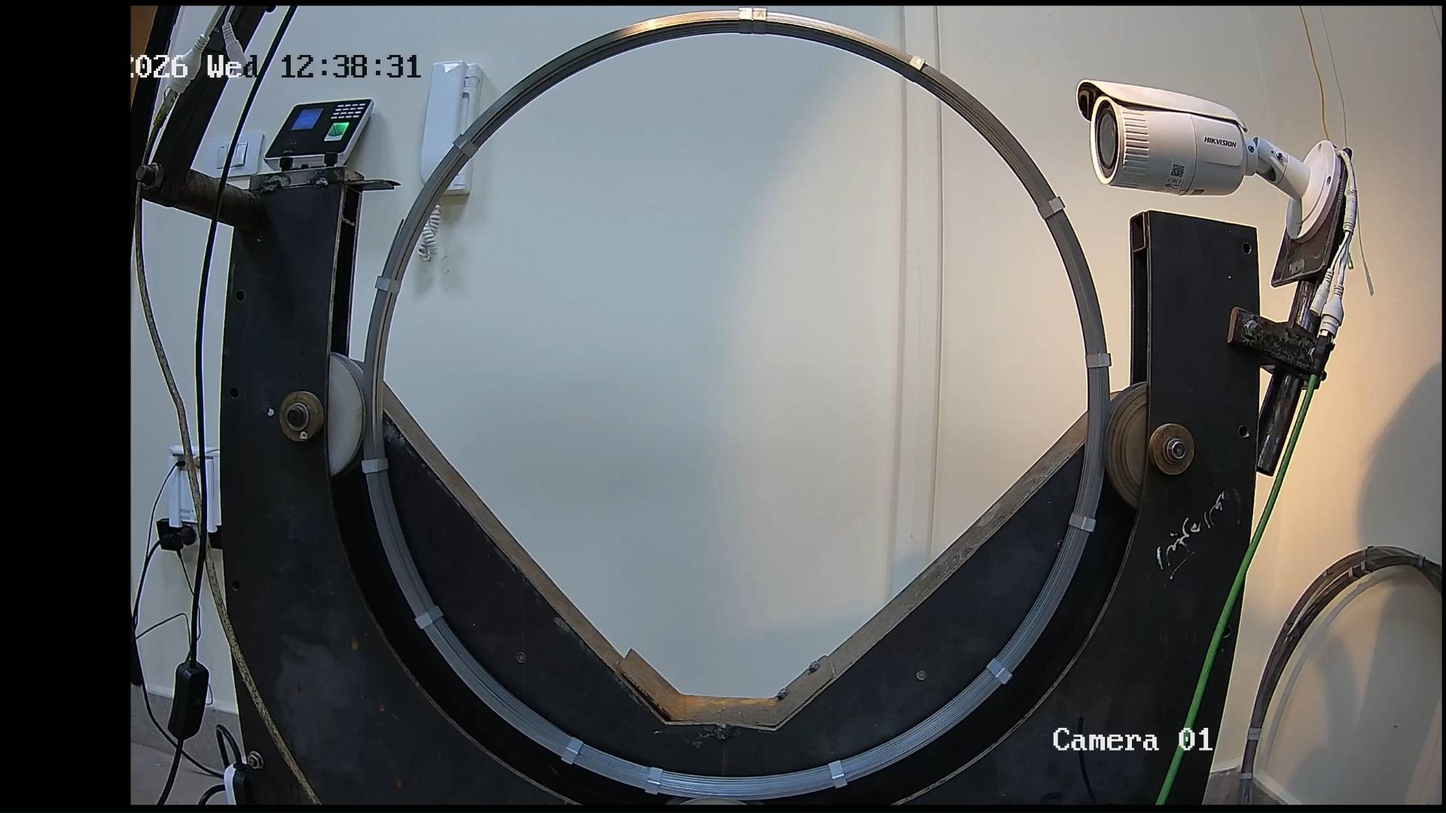Clamp: (901, 56, 926, 83), (987, 658, 1011, 684), (416, 606, 441, 629), (828, 760, 846, 787), (1040, 197, 1063, 218), (563, 738, 582, 763), (1069, 513, 1095, 531), (645, 767, 662, 793), (375, 276, 400, 293), (454, 136, 476, 154), (361, 458, 387, 473), (1086, 352, 1110, 367), (753, 9, 767, 34), (739, 9, 751, 34)
